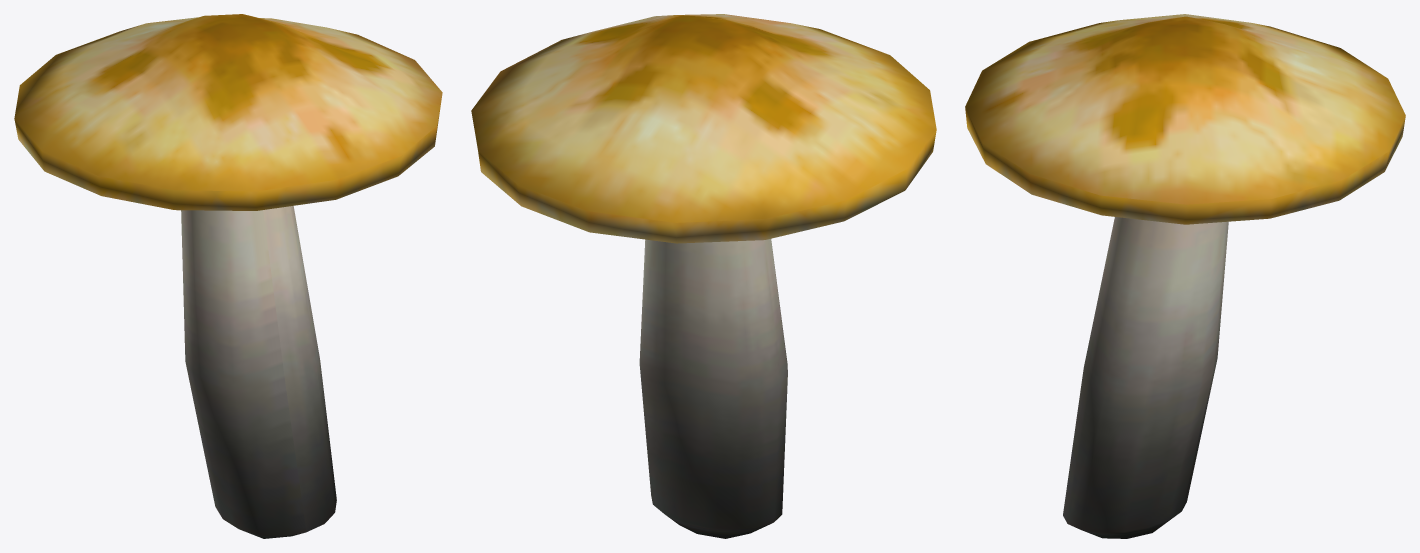
File: INST_TROLLHOLE_SHROOMC2.fbx
3 views of the same model, side by side, from view 1: azimuth 30°, elevation 25°; view 2: azimuth 150°, elevation 25°; view 3: azimuth 270°, elevation 25° (orthographic). The views are drawn at different scales.
Visible parts, largest first — view 1: INST_TROLLHOLE_SHROOMC2; view 2: INST_TROLLHOLE_SHROOMC2; view 3: INST_TROLLHOLE_SHROOMC2.
Boxes of the visible parts, x1,y1,x2,y2 form: INST_TROLLHOLE_SHROOMC2: [14, 14, 442, 538]; INST_TROLLHOLE_SHROOMC2: [471, 14, 936, 538]; INST_TROLLHOLE_SHROOMC2: [965, 14, 1405, 538].
Size of the model in its own units: 8779 by 10840 by 8776.
Materials: 1 (1 with a texture image).
